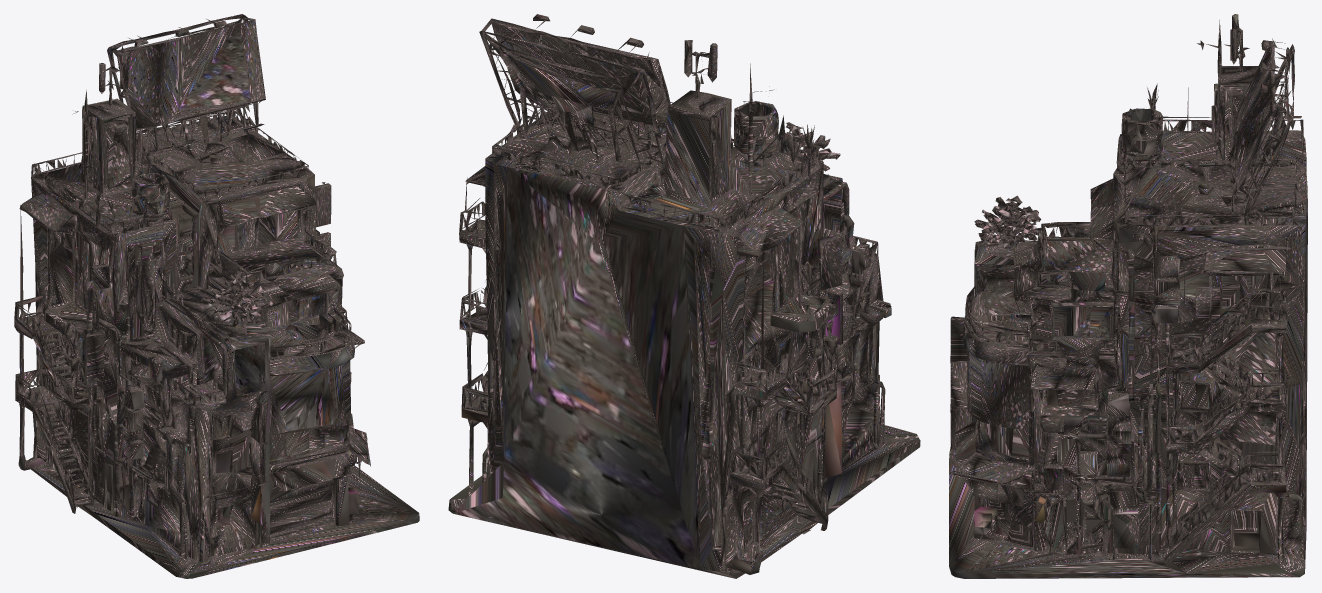
Rendered from neon-block.glb.
The picture shows the model from 3 angles, left to right: view 1: azimuth 30°, elevation 25°; view 2: azimuth 150°, elevation 25°; view 3: azimuth 270°, elevation 25°; orthographic projection. The views are drawn at different scales.
Visible parts, largest first — view 1: output_unwrapped; view 2: output_unwrapped; view 3: output_unwrapped.
Part boxes in pixels (<box>): output_unwrapped: <box>14,14,419,578</box>; output_unwrapped: <box>448,14,920,578</box>; output_unwrapped: <box>949,14,1307,578</box>.
Size of the model in its own units: 1.28 by 1.9 by 1.34.
Materials: 1 (1 with a texture image).
